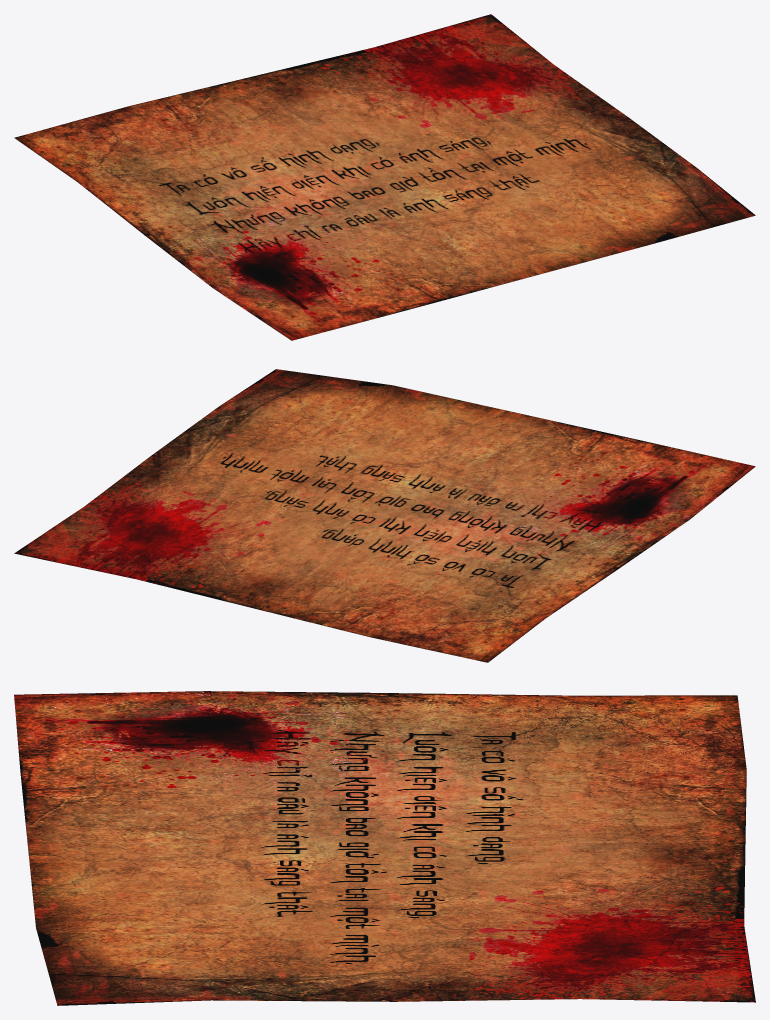
The model's file is Gamemini (1).fbx.
The picture shows the model from 3 angles, top to bottom: view 1: azimuth 30°, elevation 25°; view 2: azimuth 150°, elevation 25°; view 3: azimuth 270°, elevation 25°; orthographic projection. The views are drawn at different scales.
Parts seen in each view (by area): view 1: Plane; view 2: Plane; view 3: Plane.
Part boxes in pixels (x1,y1,x2,y2): Plane: [14, 14, 755, 340]; Plane: [14, 369, 755, 662]; Plane: [14, 691, 755, 1005].
Size of the model in its own units: 198 by 1.82 by 199.
1 material, 1 textured.
